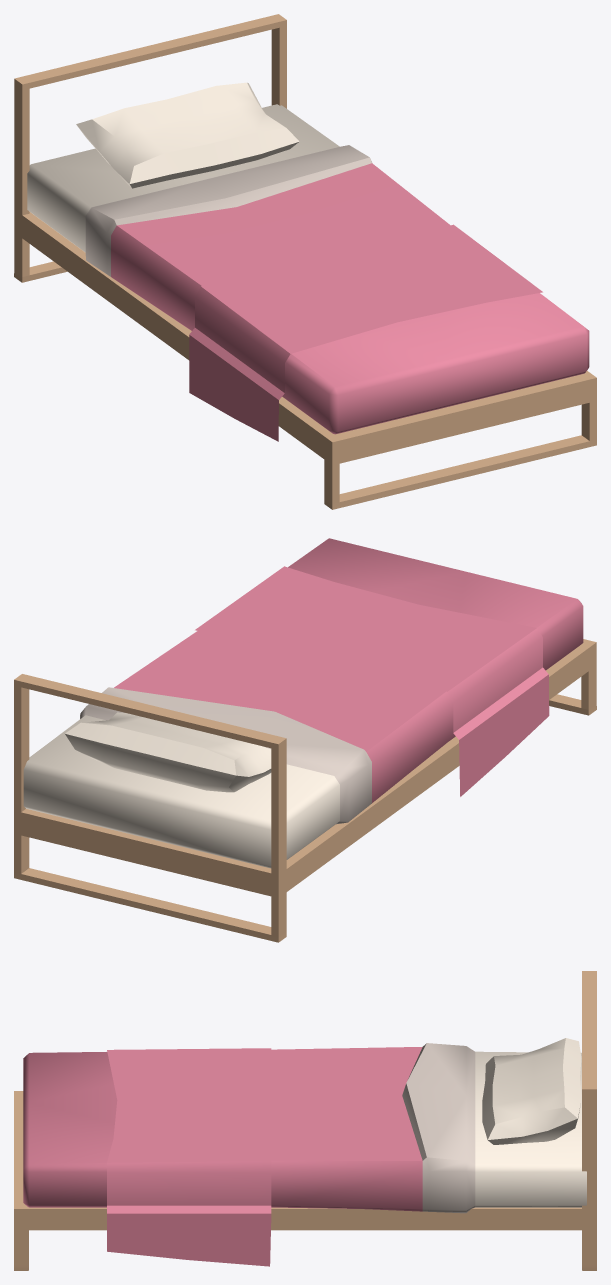
The model's file is bed-single.glb.
3 renders of one model, top to bottom at view 1: azimuth 30°, elevation 25°; view 2: azimuth 150°, elevation 25°; view 3: azimuth 270°, elevation 25°, orthographic. The views are drawn at different scales.
Parts seen in each view (by area): view 1: Bed_Single; view 2: Bed_Single; view 3: Bed_Single.
Boxes of the visible parts, <box> form: Bed_Single: <box>14,14,596,509</box>; Bed_Single: <box>14,538,596,942</box>; Bed_Single: <box>14,971,596,1270</box>.
Size of the model in its own units: 1.98 by 1.35 by 3.94.
